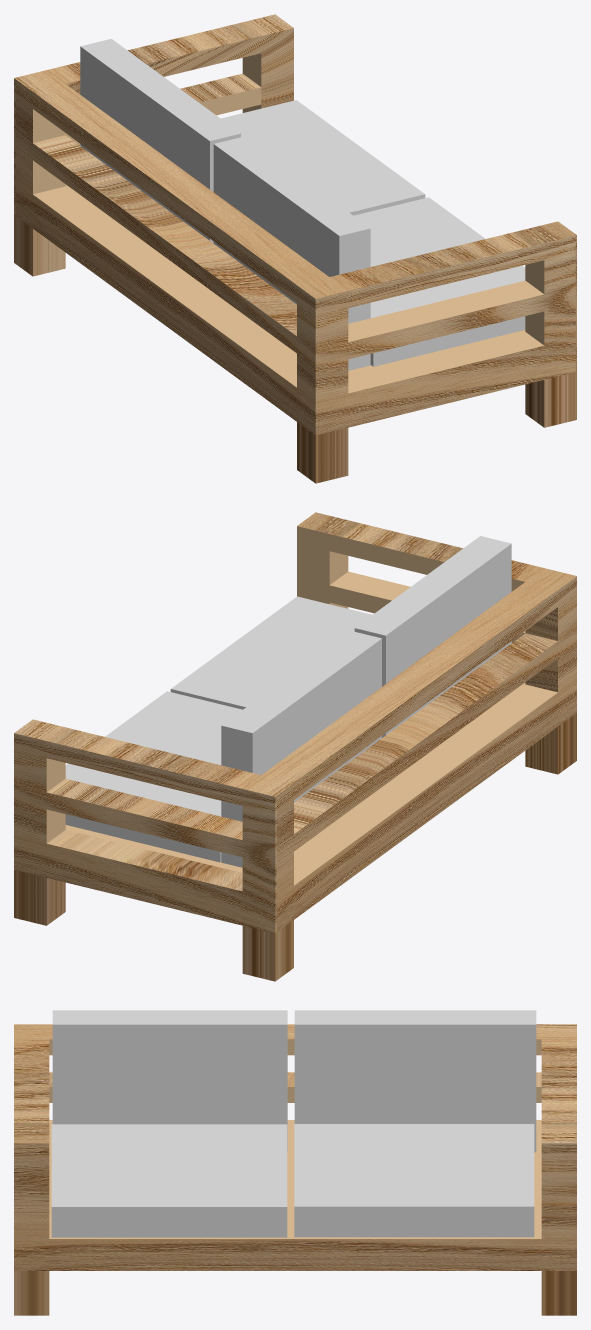
File: patiofurniturecouch.fbx
The picture shows the model from 3 angles, top to bottom: view 1: azimuth 30°, elevation 25°; view 2: azimuth 150°, elevation 25°; view 3: azimuth 270°, elevation 25°; orthographic projection. The views are drawn at different scales.
Visible parts, largest first — view 1: Cube, Cube.001, Cube.002, Cube.003, Cube.004; view 2: Cube, Cube.002, Cube.001, Cube.003, Cube.004; view 3: Cube, Cube.002, Cube.003, Cube.001, Cube.004.
Part boxes in pixels (x1,y1,x2,y2): Cube: [14, 14, 576, 483]; Cube.001: [213, 136, 370, 370]; Cube.002: [80, 39, 240, 243]; Cube.003: [221, 100, 425, 215]; Cube.004: [354, 197, 525, 366]; Cube: [14, 512, 576, 981]; Cube.002: [221, 631, 381, 867]; Cube.001: [354, 536, 511, 737]; Cube.003: [65, 691, 242, 862]; Cube.004: [170, 596, 372, 709]; Cube: [14, 1024, 576, 1315]; Cube.002: [294, 1010, 536, 1152]; Cube.003: [294, 1124, 534, 1237]; Cube.001: [52, 1010, 287, 1151]; Cube.004: [51, 1124, 287, 1237].
Size of the model in its own units: 800 by 648 by 1600.
